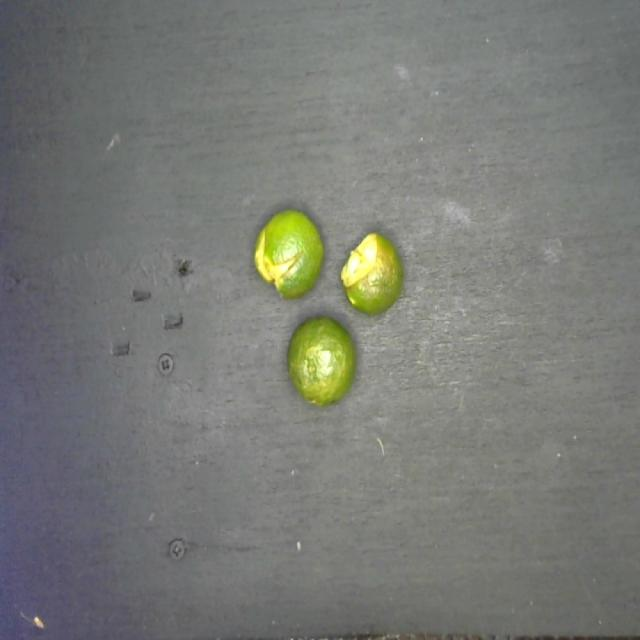biodegradable: (253, 198, 407, 412)
